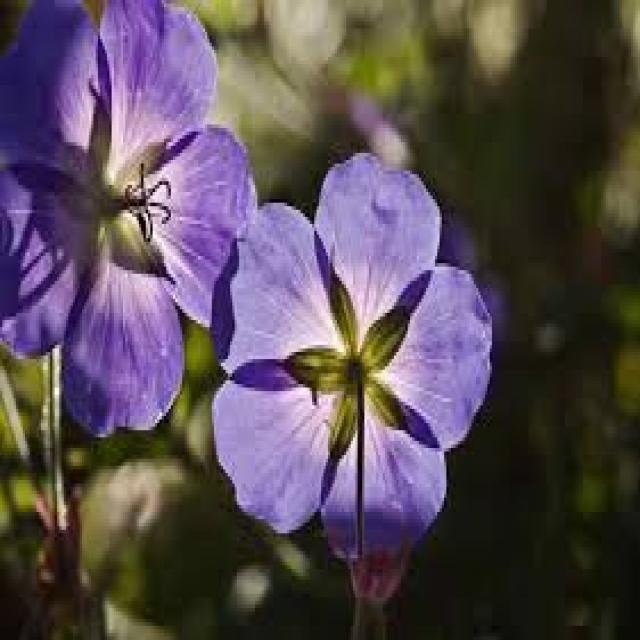Chirata: (0, 14, 424, 498), (219, 132, 582, 553)
